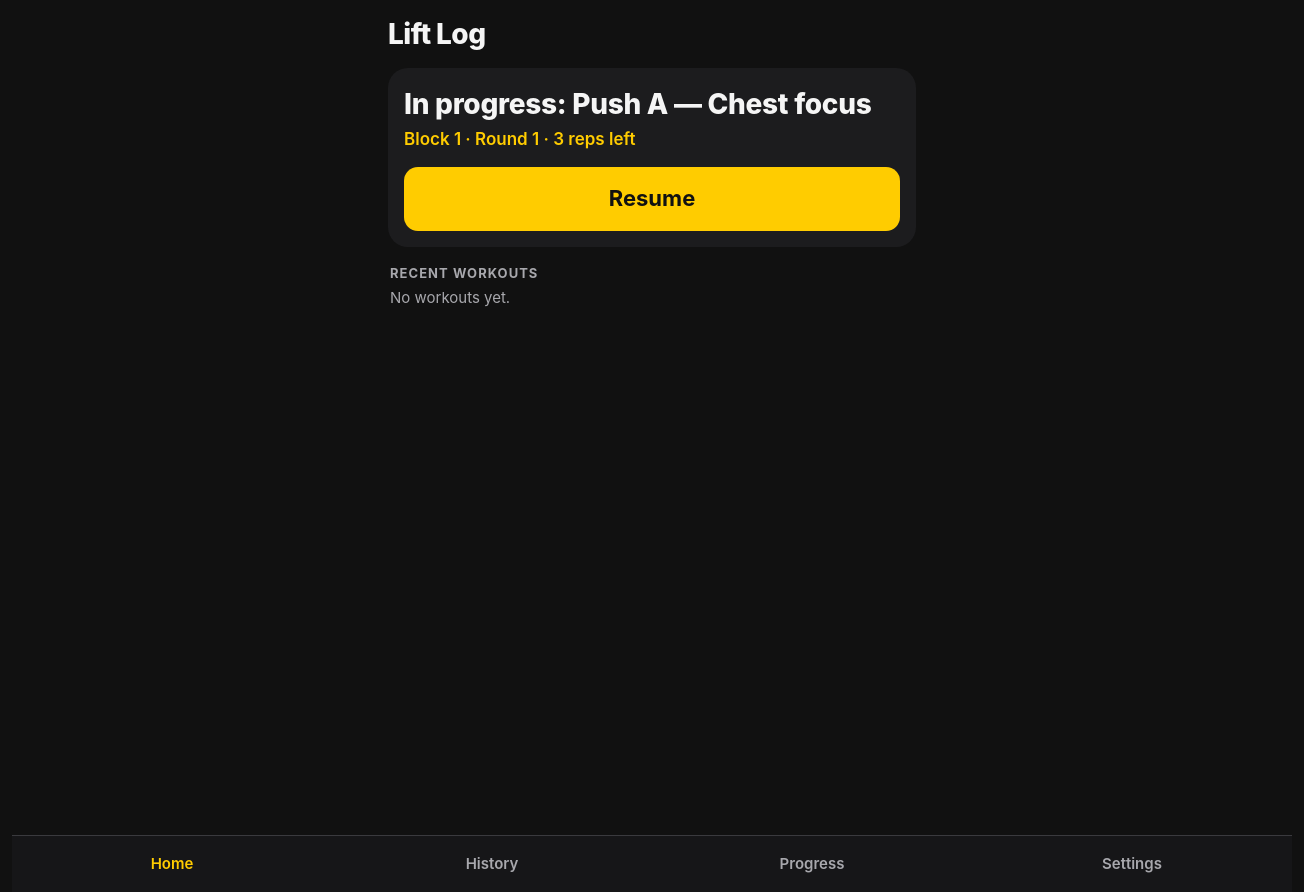
Test: Home › still allows resuming an active session while the check-in is due
Click the button "Resume" at (652, 199), box x1=404 y1=167 x2=900 y2=231
(page scrolled)
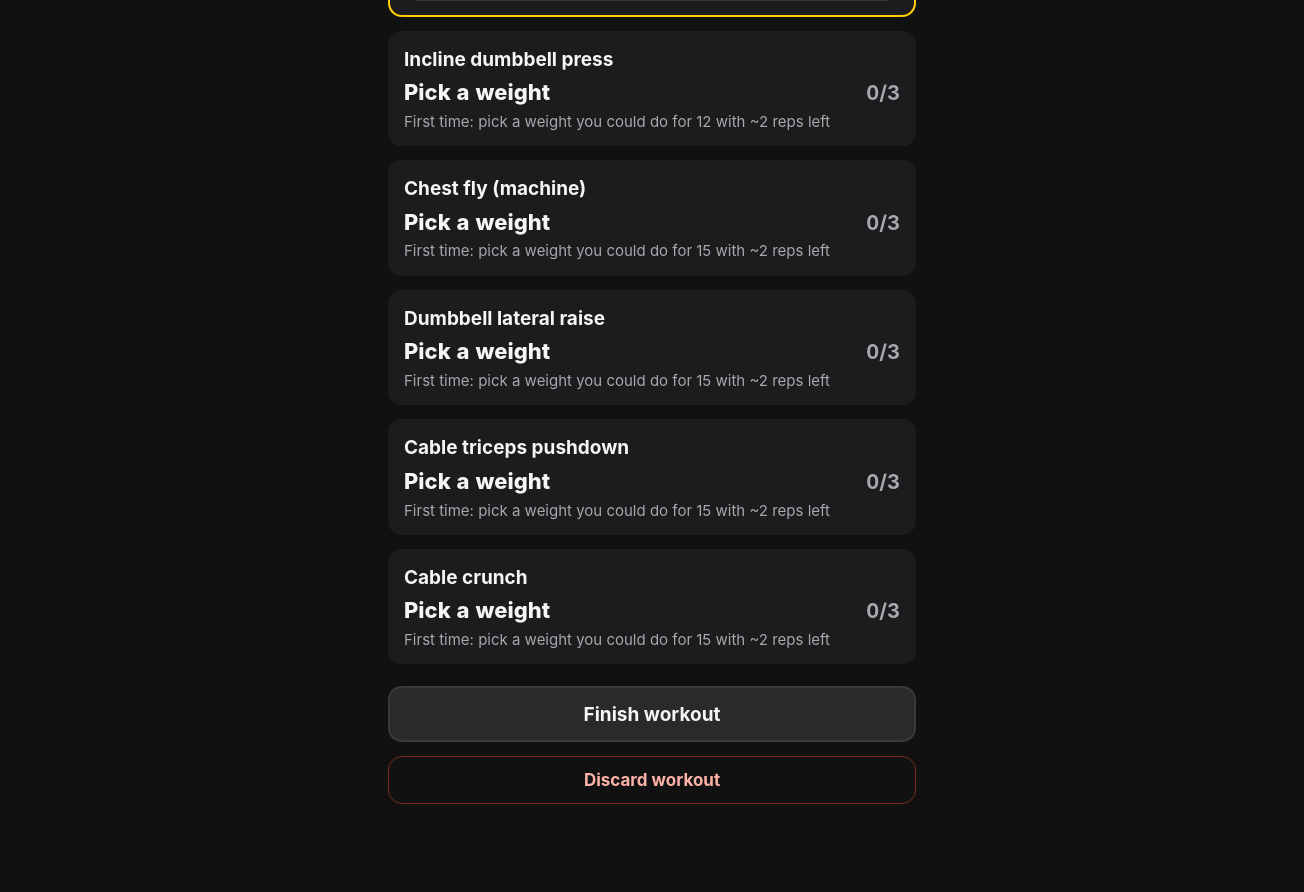
Now the button "Finish workout" is shown, box x1=388 y1=686 x2=916 y2=742
